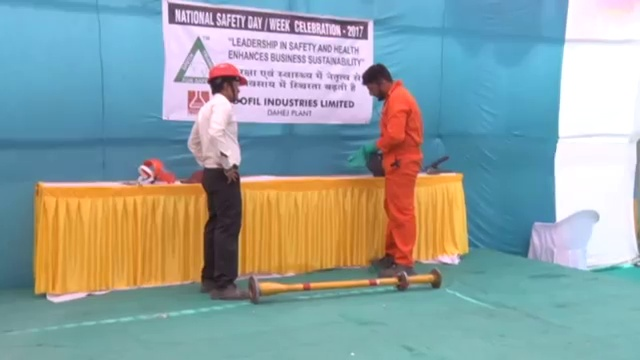helmet: (206, 61, 248, 88)
helmet_off: (362, 64, 397, 103)
helmet_on: (206, 64, 250, 107)
person: (184, 63, 251, 302), (360, 62, 422, 278)
